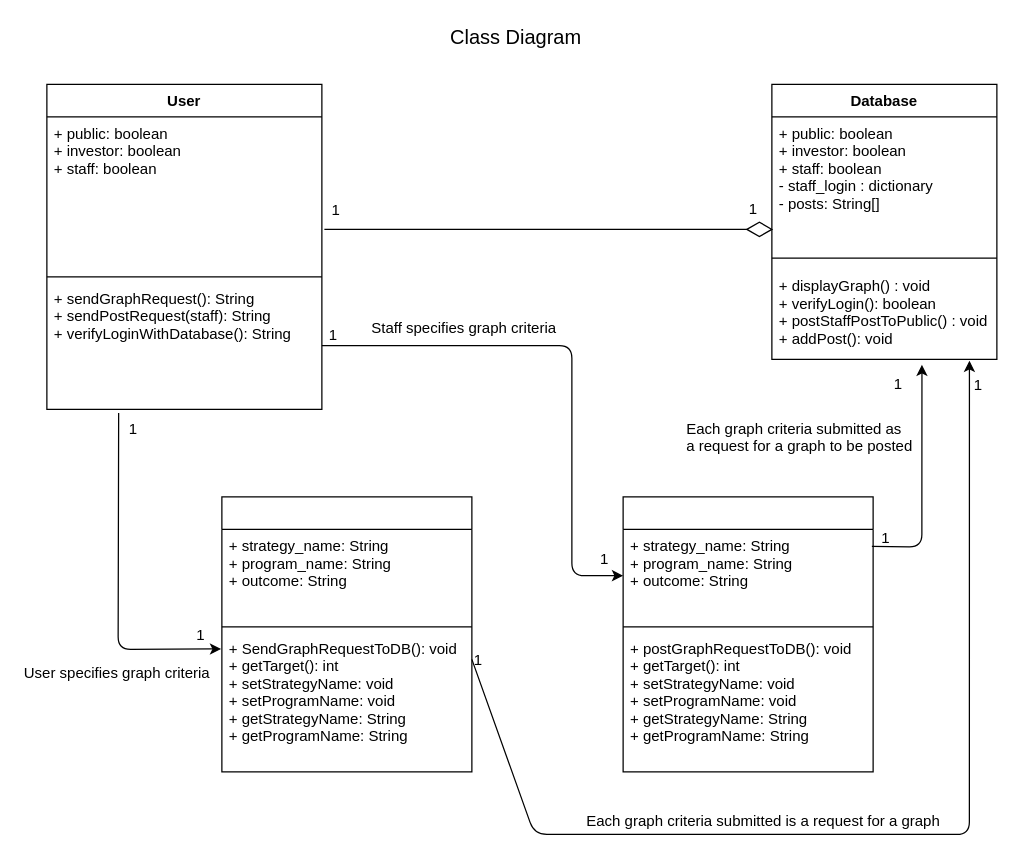
This 1019x866 diagram has some shape labels left out. Each missing label, with the box of its shape:
PostGraphCriteria: (622, 496, 873, 772)
SendGraphCriteria: (221, 496, 472, 772)
